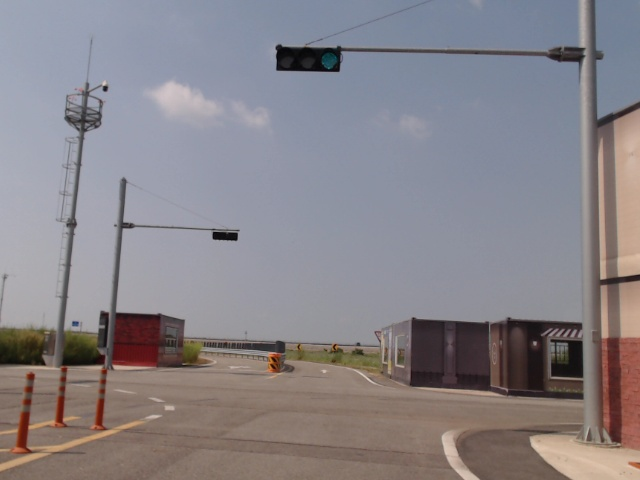green_3: (276, 46, 341, 73)
